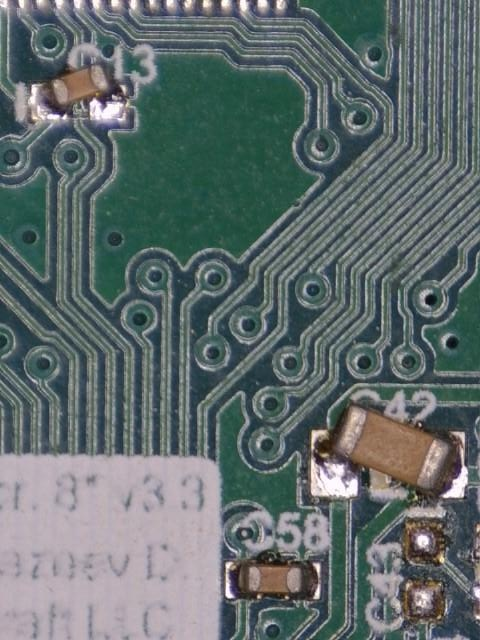pcb_defect: (311, 404, 465, 498), (31, 63, 125, 120)
